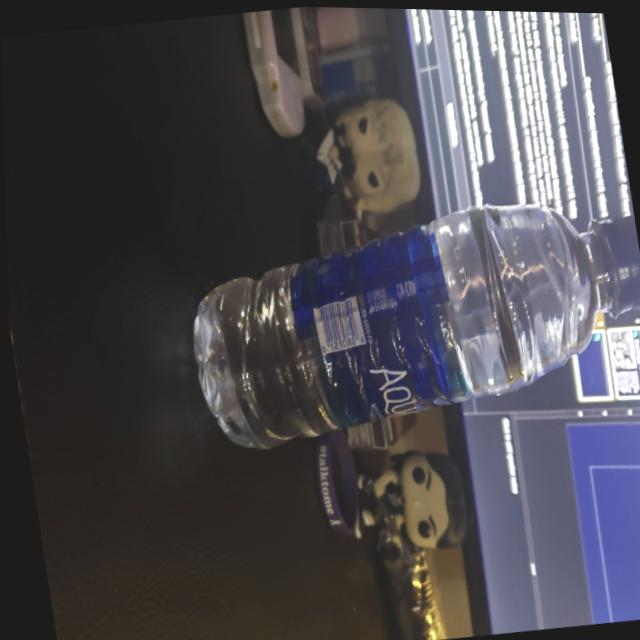anorganik: (180, 170, 640, 497)
